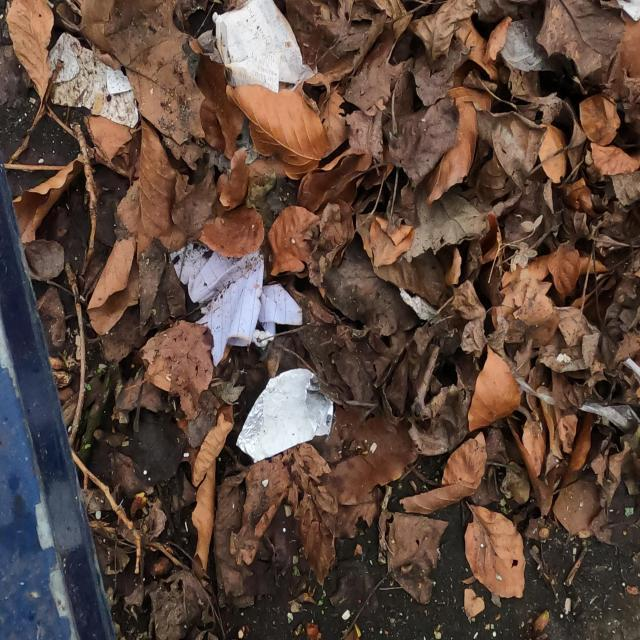Paper: (168, 246, 304, 370), (211, 0, 319, 96), (47, 29, 140, 130)
Plastic: (234, 367, 336, 465)
